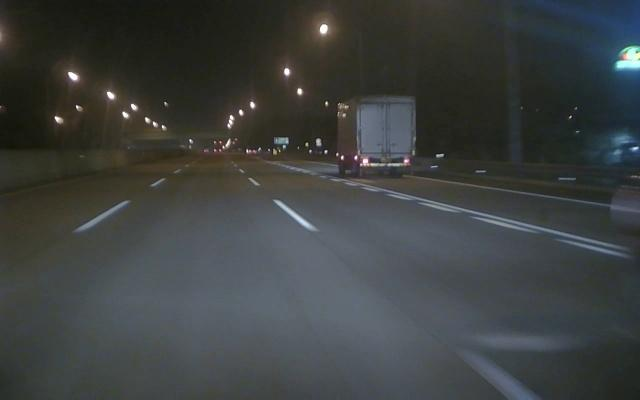lane: (249, 178, 547, 400), (303, 172, 624, 259), (2, 180, 161, 277)
